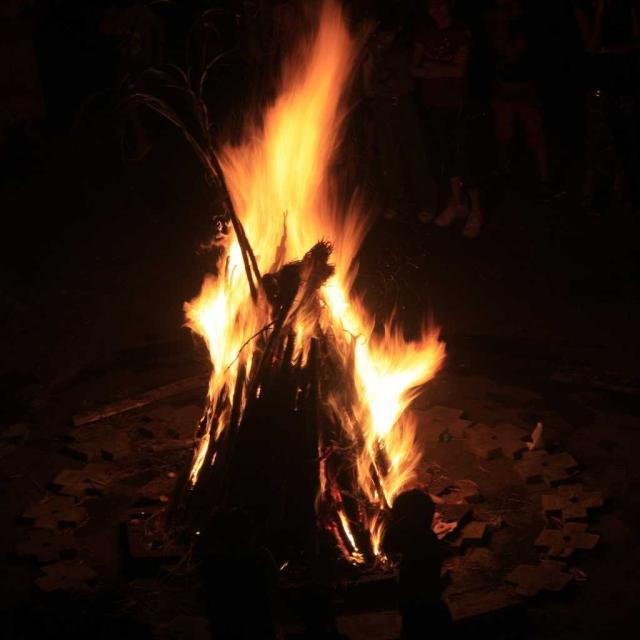Fire: (190, 134, 447, 482)
